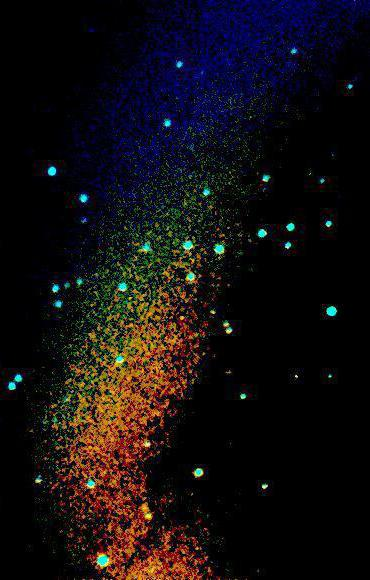star: (167, 299, 197, 329)
